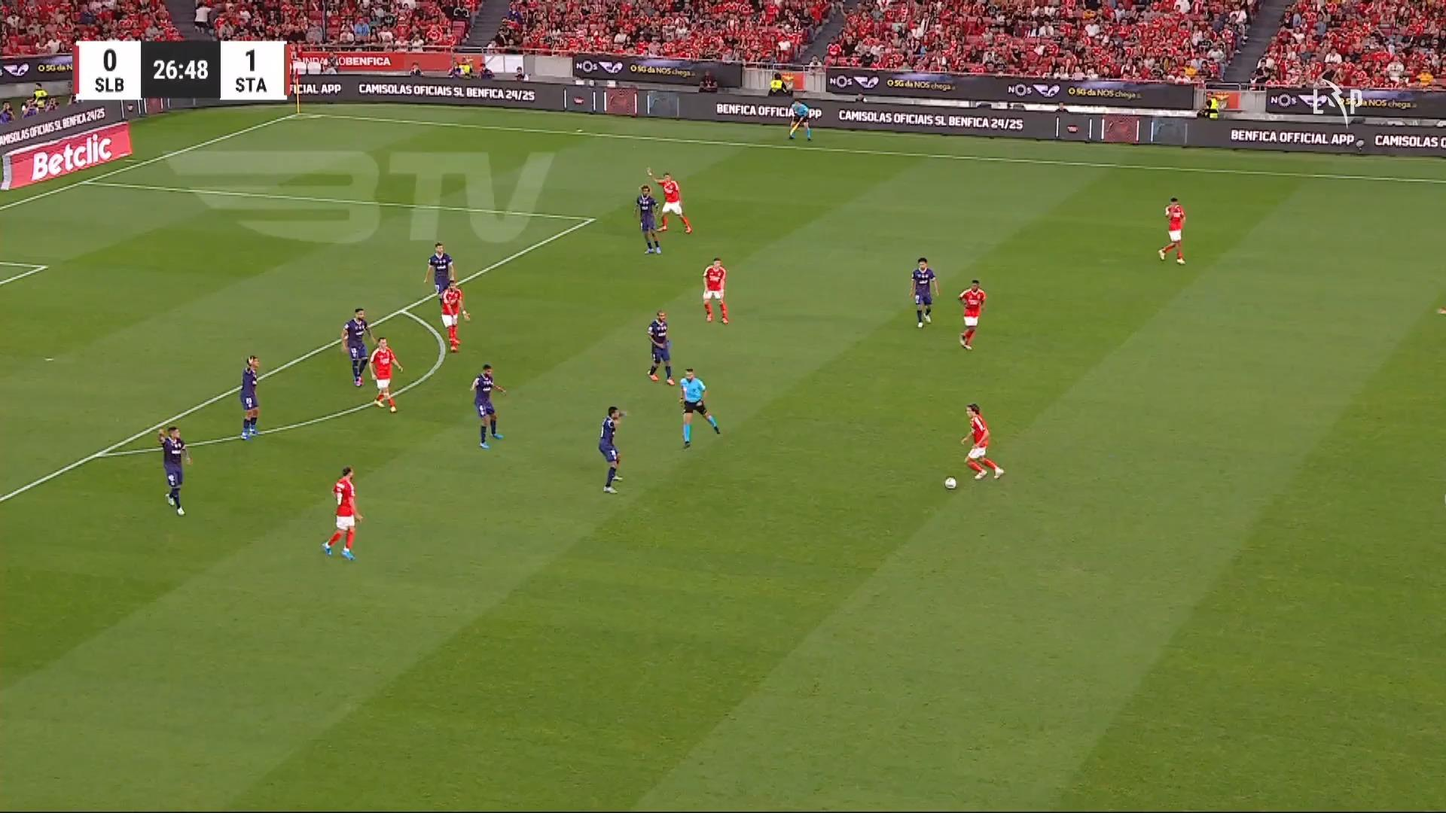ball: (944, 477, 956, 489)
player: (321, 465, 364, 560), (959, 402, 1005, 480), (645, 166, 693, 234), (156, 425, 191, 516), (470, 364, 507, 449), (367, 336, 403, 412), (340, 307, 373, 387), (597, 406, 626, 493), (645, 309, 675, 385), (438, 282, 470, 353), (909, 256, 939, 328), (957, 279, 986, 350), (238, 354, 261, 440), (1157, 196, 1186, 264), (634, 184, 662, 254), (423, 242, 456, 300), (701, 256, 729, 324)
referee: (677, 367, 721, 449), (787, 99, 813, 141)
